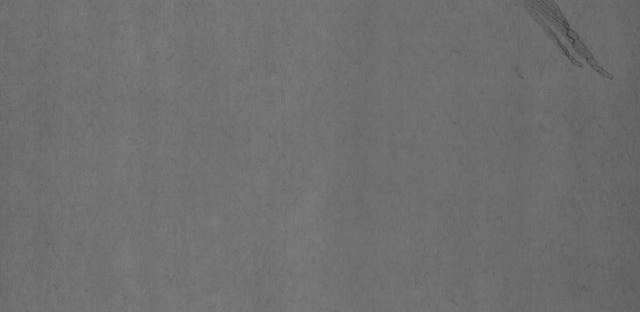water_spot: (515, 0, 625, 86)
